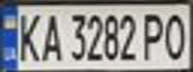2: (118, 10, 142, 62), (84, 10, 106, 62)
3: (63, 9, 87, 62)
8: (103, 10, 124, 62)
A: (36, 9, 66, 62)
K: (12, 9, 45, 63)
O: (160, 8, 193, 61)
P: (139, 9, 169, 62)
